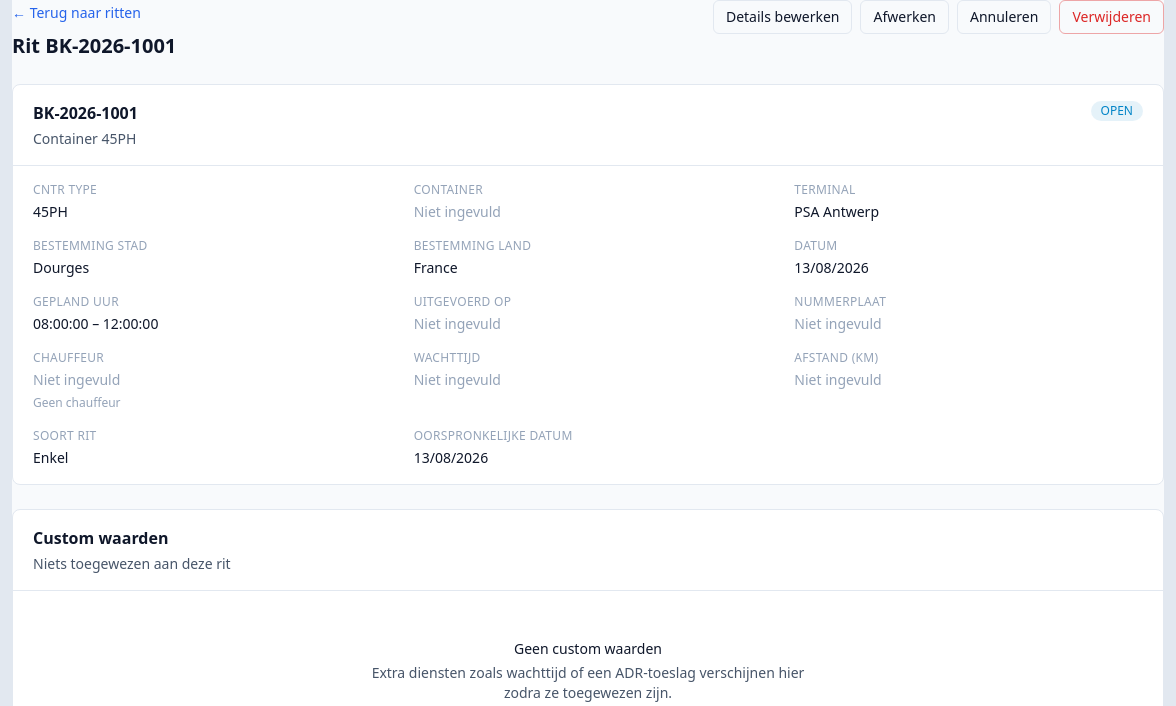
The vehicle picker › the vehicle picker › shows the backend's refusal
The width and height of the screenshot is (1176, 706).
Step 1. Click the button "Details bewerken" → (783,17), box [713,0,852,34]
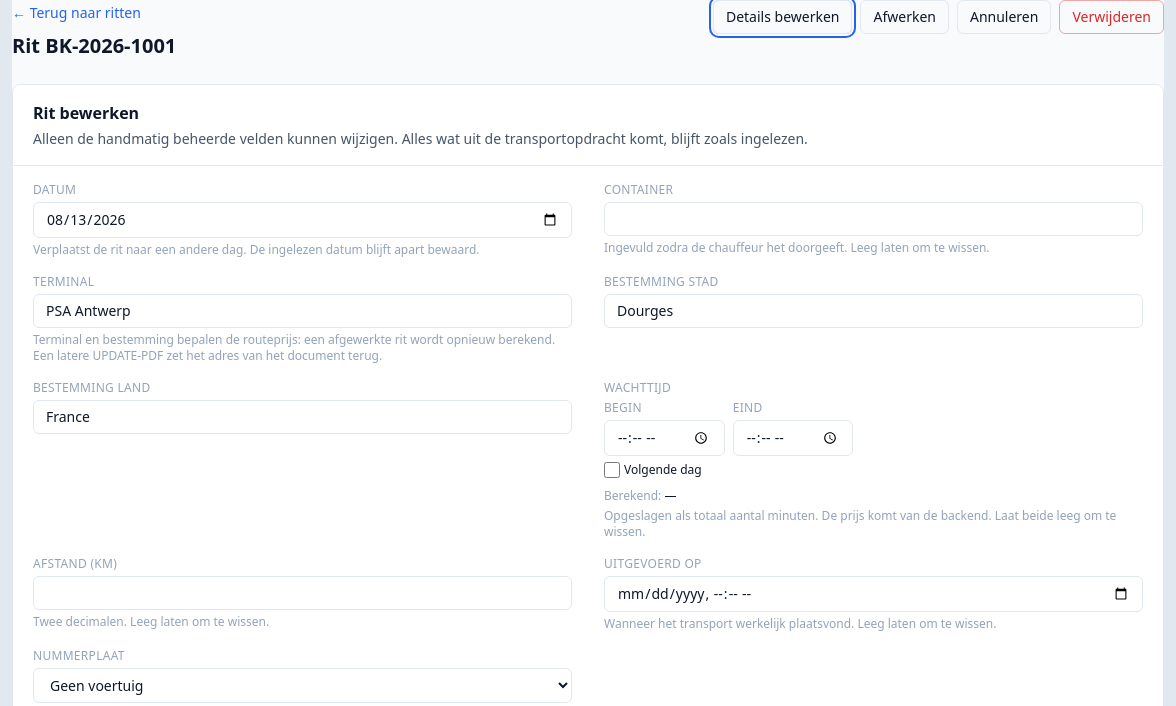
Step 2. Select "1-ABC-123 · Volvo FH16" in the dropdown labelled "Nummerplaat" → (302,686), box [33,668,572,703]
(page scrolled)
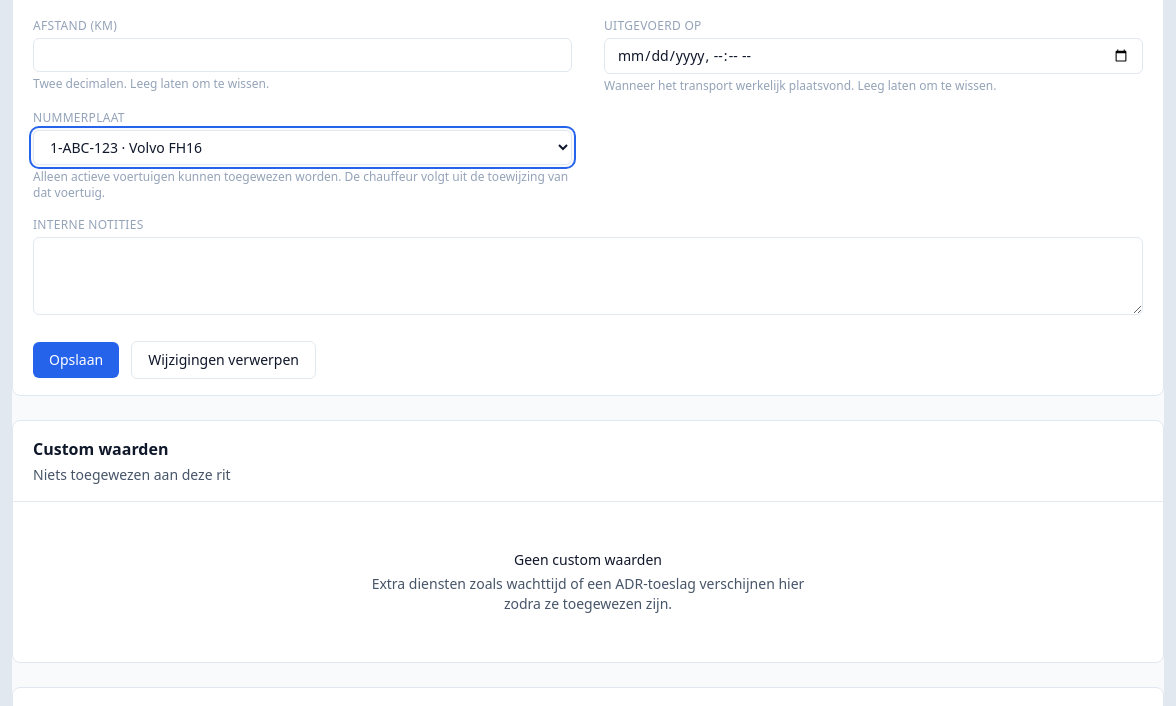
Step 3. Click the button "Opslaan" → (76,360), box [33,342,119,378]
(page scrolled)
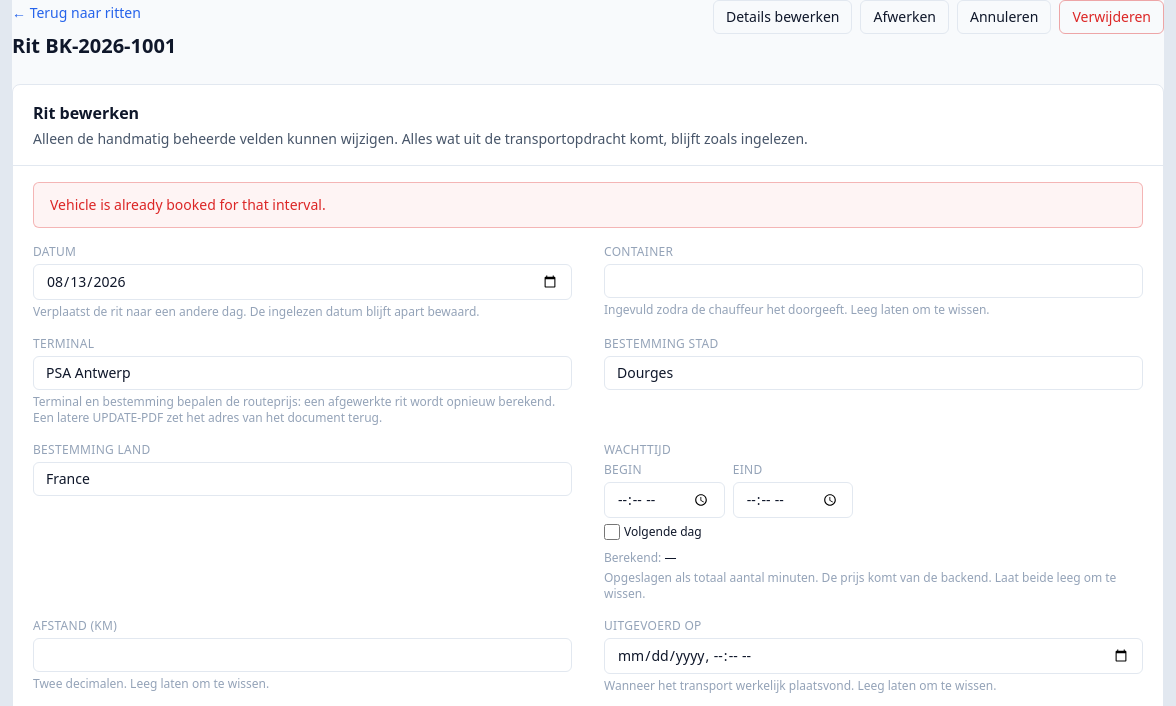
Now the message reads "Vehicle is already booked for that interval.", box [50,195,326,214]
